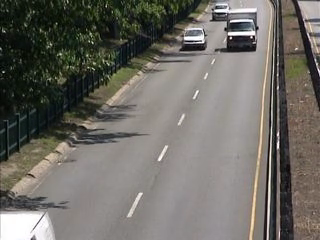car: (181, 27, 207, 53), (210, 2, 232, 24)
truck: (224, 8, 260, 52)
